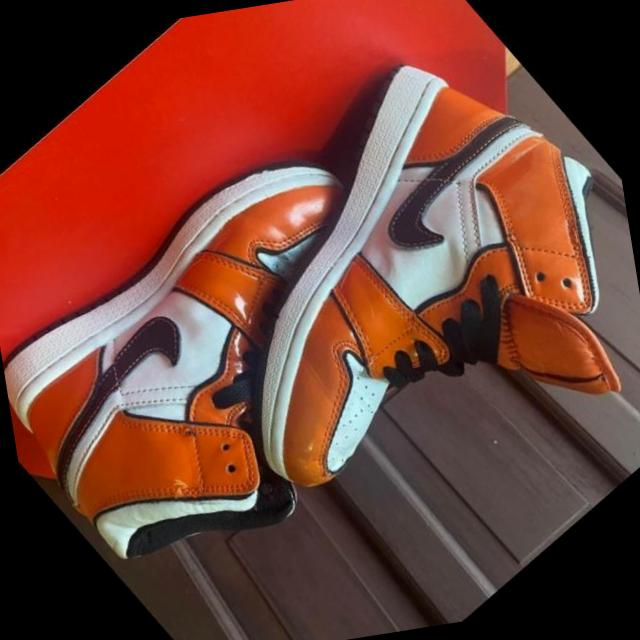nike_fake_jordan: (84, 0, 640, 630), (0, 78, 530, 640)
